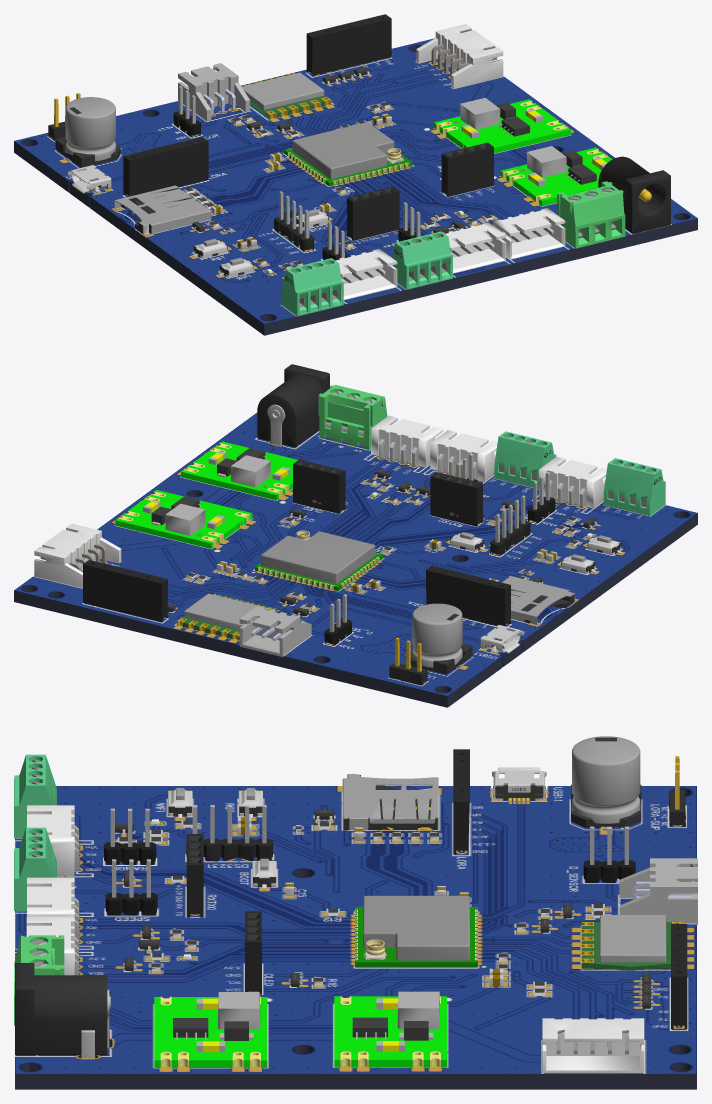
Rendered from main_pcb_v2.4.glb.
3 views of the same model, one above another, from view 1: azimuth 30°, elevation 25°; view 2: azimuth 150°, elevation 25°; view 3: azimuth 270°, elevation 25° (orthographic). The views are drawn at different scales.
Parts seen in each view (by area): view 1: PCB_top, PCB_edge, parts_mtl7, parts_mtl31, parts_mtl6, parts_mtl20, parts_mtl38, parts_mtl40, parts_mtl27, parts_mtl45, parts_mtl12, parts_mtl35 (+15 smaller); view 2: PCB_top, PCB_edge, parts_mtl7, parts_mtl6, parts_mtl20, parts_mtl31, parts_mtl38, parts_mtl40, parts_mtl27, parts_mtl12, parts_mtl45, parts_mtl35 (+14 smaller); view 3: PCB_top, parts_mtl31, PCB_edge, parts_mtl6, parts_mtl40, parts_mtl12, parts_mtl45, parts_mtl20, parts_mtl23, parts_mtl7, parts_mtl38, parts_mtl4 (+18 smaller).
Part boxes in pixels (x1,y1,x2,y2): PCB_top: (14,38,697,323); PCB_edge: (14,45,697,335); parts_mtl7: (123,14,391,251); parts_mtl31: (65,72,324,235); parts_mtl6: (178,63,606,258); parts_mtl20: (335,207,565,300); parts_mtl38: (281,231,452,316); parts_mtl40: (434,99,612,206); parts_mtl27: (347,142,493,240); parts_mtl45: (292,122,394,179); parts_mtl12: (48,121,670,233); parts_mtl35: (557,181,625,248); PCB_top: (14,412,697,695); PCB_edge: (14,442,697,707); parts_mtl7: (83,520,530,626); parts_mtl6: (143,451,549,656); parts_mtl20: (371,415,606,508); parts_mtl31: (184,576,576,667); parts_mtl38: (494,431,665,516); parts_mtl40: (115,441,297,548); parts_mtl27: (293,459,482,526); parts_mtl12: (257,364,427,685); parts_mtl45: (261,531,375,583); parts_mtl35: (318,384,387,450); PCB_top: (15,786,696,1073); parts_mtl31: (342,736,666,962); PCB_edge: (15,787,696,1089); parts_mtl6: (110,805,697,1052); parts_mtl40: (154,996,446,1067); parts_mtl12: (15,790,685,1055); parts_mtl45: (363,895,469,960); parts_mtl20: (26,805,74,975); parts_mtl23: (542,1018,644,1073); parts_mtl7: (186,749,687,1029); parts_mtl38: (14,754,56,910); parts_mtl4: (119,820,602,1040).
Bounding box in the file's own units: 0.1 × 0.015 × 0.1.
Materials: 48 (2 with a texture image).
